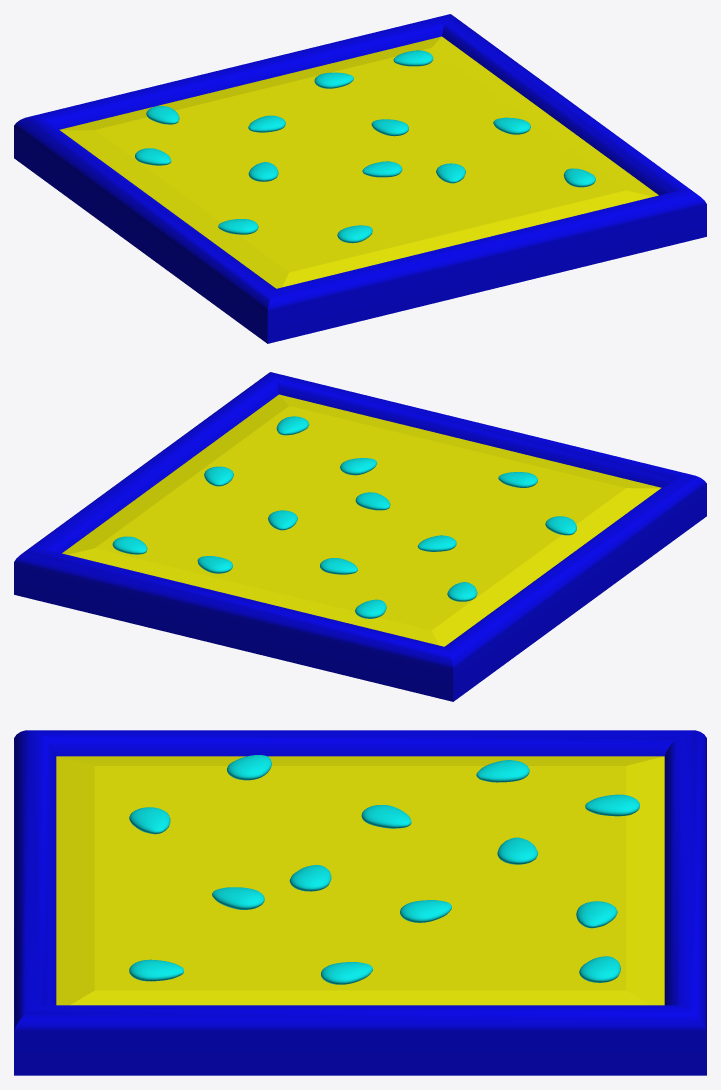
File: Stage_1.fbx
3 views of the same model, one above another, from view 1: azimuth 30°, elevation 25°; view 2: azimuth 150°, elevation 25°; view 3: azimuth 270°, elevation 25° (orthographic). The views are drawn at different scales.
Visible parts, largest first — view 1: Strawberry_Dirt_Stage_1, Strawberry_Bed_Stage_1, Strawberry_Seed_5_Stage_1, Strawberry_Seed_5_Stage_2, Strawberry_Seed_7_Stage_3, Strawberry_Seed_4_Stage_2; view 2: Strawberry_Dirt_Stage_1, Strawberry_Bed_Stage_1, Strawberry_Seed_4_Stage_1; view 3: Strawberry_Dirt_Stage_1, Strawberry_Bed_Stage_1, Strawberry_Seed_3_Stage_2, Strawberry_Seed_1_Stage_2, Strawberry_Seed_2_Stage_1, Strawberry_Seed_6_Stage_1, Strawberry_Seed_7_Stage_2, Strawberry_Seed_7_Stage_1, Strawberry_Seed_4_Stage_1, Strawberry_Seed_4_Stage_2, Strawberry_Seed_7_Stage_3, Strawberry_Seed_1_Stage_1 (+3 smaller).
Boxes of the visible parts, x1,y1,x2,y2 form: Strawberry_Dirt_Stage_1: (59,36,658,288); Strawberry_Bed_Stage_1: (14,14,706,343); Strawberry_Seed_5_Stage_1: (362,161,402,177); Strawberry_Seed_5_Stage_2: (393,50,433,66); Strawberry_Seed_7_Stage_3: (314,72,353,88); Strawberry_Seed_4_Stage_2: (218,219,258,234); Strawberry_Dirt_Stage_1: (62,394,661,646); Strawberry_Bed_Stage_1: (14,372,706,701); Strawberry_Seed_4_Stage_1: (417,535,456,551); Strawberry_Dirt_Stage_1: (56,756,664,1005); Strawberry_Bed_Stage_1: (14,730,706,1075); Strawberry_Seed_3_Stage_2: (585,794,639,816); Strawberry_Seed_1_Stage_2: (129,959,183,981); Strawberry_Seed_2_Stage_1: (476,760,529,782); Strawberry_Seed_6_Stage_1: (212,887,264,909); Strawberry_Seed_7_Stage_2: (321,962,372,984); Strawberry_Seed_7_Stage_1: (400,900,451,922); Strawberry_Seed_4_Stage_1: (361,805,411,828); Strawberry_Seed_4_Stage_2: (227,755,271,780); Strawberry_Seed_7_Stage_3: (576,901,617,928); Strawberry_Seed_1_Stage_1: (129,807,170,834).
Size of the model in its own units: 4.24 by 0.4648 by 4.24.
